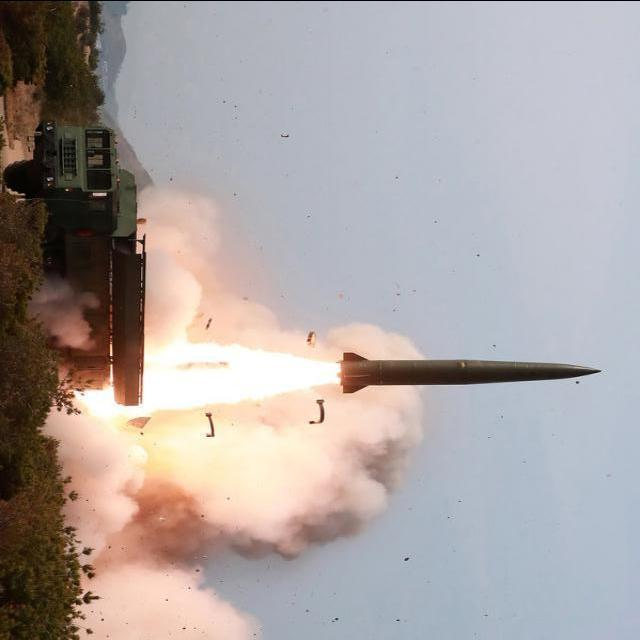missile: (333, 348, 604, 402)
